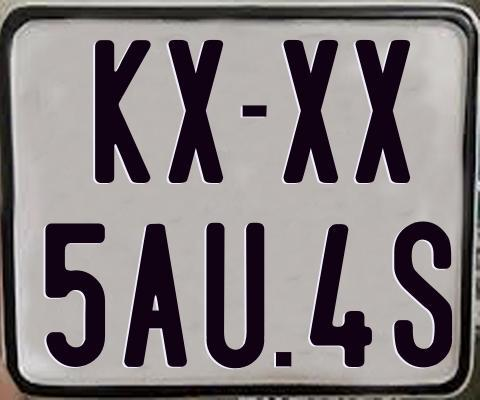4: (308, 221, 370, 365)
5: (44, 223, 108, 367)
A: (121, 223, 190, 366)
K: (95, 40, 152, 183)
S: (391, 220, 454, 367)
U: (203, 220, 266, 366)
X: (354, 38, 414, 181), (281, 37, 339, 180), (169, 40, 226, 185)
